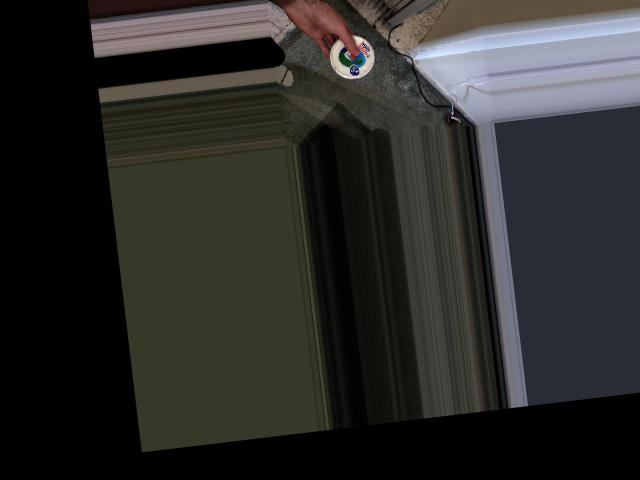cotage: (328, 32, 374, 78)
